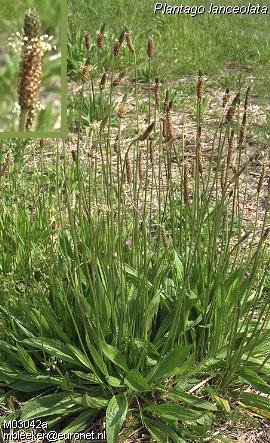buckhorn plantain: (70, 19, 249, 414), (5, 5, 46, 144)
